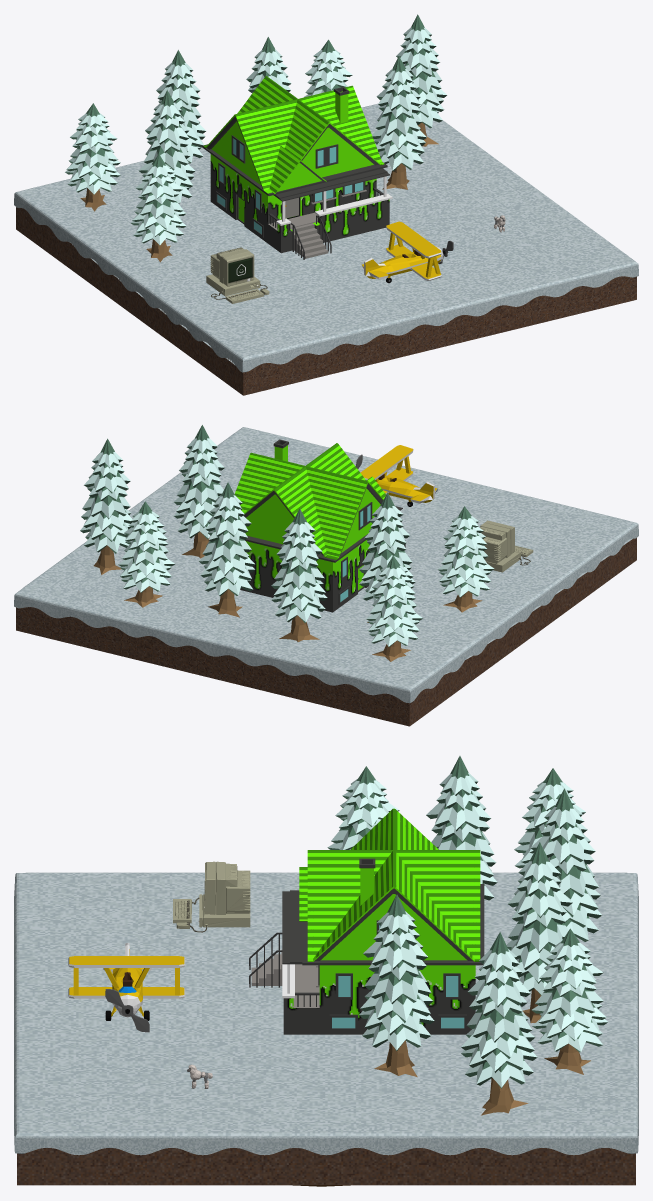
3 renders of one model, top to bottom at view 1: azimuth 30°, elevation 25°; view 2: azimuth 150°, elevation 25°; view 3: azimuth 270°, elevation 25°, orthographic. The views are drawn at different scales.
Visible parts, largest first — view 1: Cube.003, Cube.754, VEHICLES_AIRPLANE, OBJRANDOM_RETRO_PC; view 2: Cube.003, Cube.754, VEHICLES_AIRPLANE, OBJRANDOM_RETRO_PC; view 3: Cube.003, Cube.754, VEHICLES_AIRPLANE, OBJRANDOM_RETRO_PC.
Boxes of the visible parts, bbox=[...] form: Cube.003: bbox=[14, 14, 638, 395]; Cube.754: bbox=[202, 76, 392, 259]; VEHICLES_AIRPLANE: bbox=[361, 221, 453, 283]; OBJRANDOM_RETRO_PC: bbox=[206, 247, 269, 303]; Cube.003: bbox=[14, 425, 638, 726]; Cube.754: bbox=[234, 439, 405, 612]; VEHICLES_AIRPLANE: bbox=[355, 445, 437, 506]; OBJRANDOM_RETRO_PC: bbox=[480, 520, 533, 572]; Cube.003: bbox=[14, 756, 638, 1185]; Cube.754: bbox=[249, 808, 484, 1034]; VEHICLES_AIRPLANE: bbox=[68, 943, 185, 1032]; OBJRANDOM_RETRO_PC: bbox=[173, 861, 250, 932].
Bounding box in the file's own units: 4040 × 1758 × 4040.
36 materials, 4 textured.
